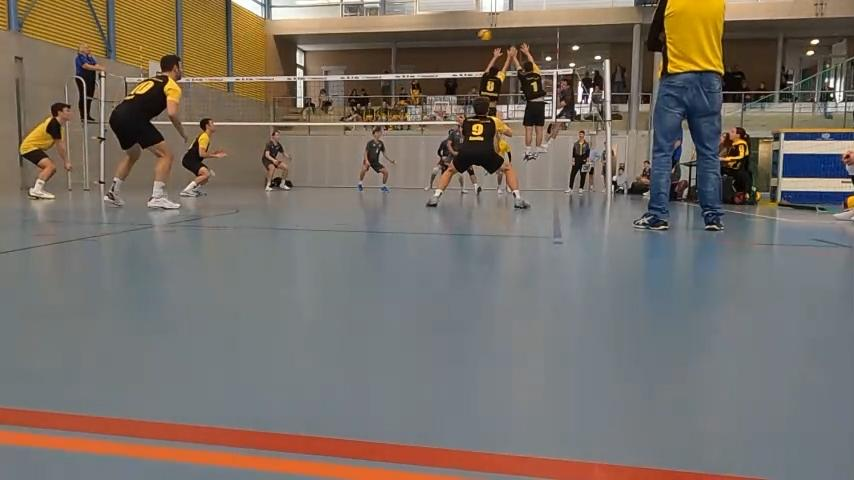attacco: (539, 69, 578, 157)
muro: (512, 41, 549, 168), (474, 45, 514, 124)
